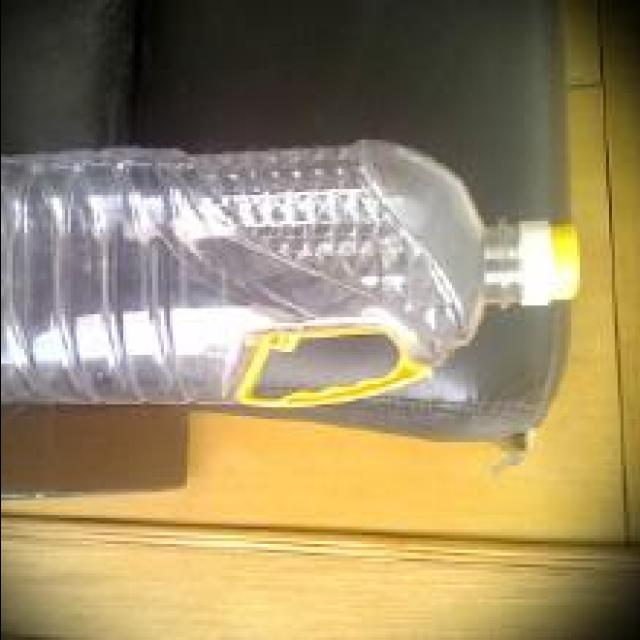-Recyclables - plastic bottle-: (0, 140, 585, 408)
